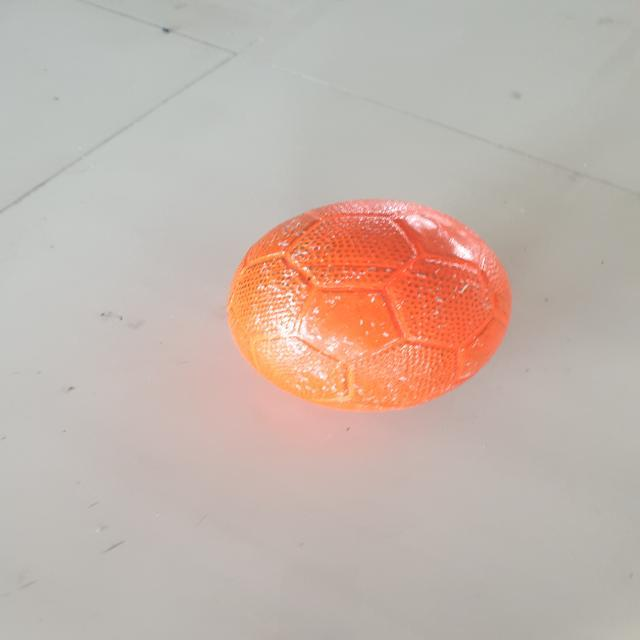bola: (226, 196, 519, 420)
